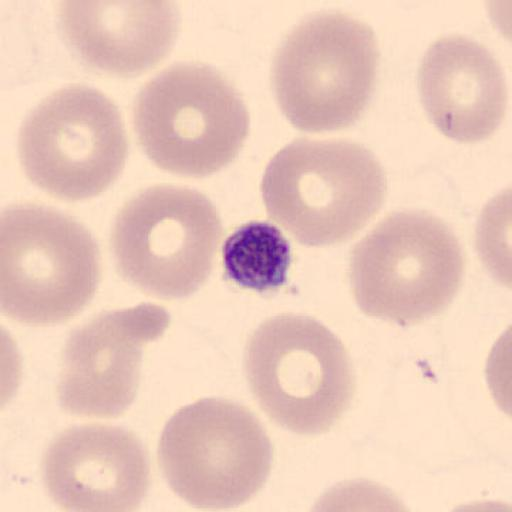Platelet: (218, 217, 296, 296)
RBC: (258, 134, 389, 250), (129, 58, 252, 180), (240, 309, 357, 437), (267, 7, 380, 137), (346, 206, 466, 327), (14, 81, 130, 204), (154, 395, 274, 512), (110, 180, 224, 302), (2, 200, 103, 328), (414, 32, 509, 144), (56, 306, 147, 422), (52, 0, 183, 80), (39, 421, 152, 512), (302, 475, 426, 512), (472, 182, 512, 292), (483, 321, 512, 424), (0, 320, 24, 415), (482, 0, 512, 42), (438, 498, 512, 512)
